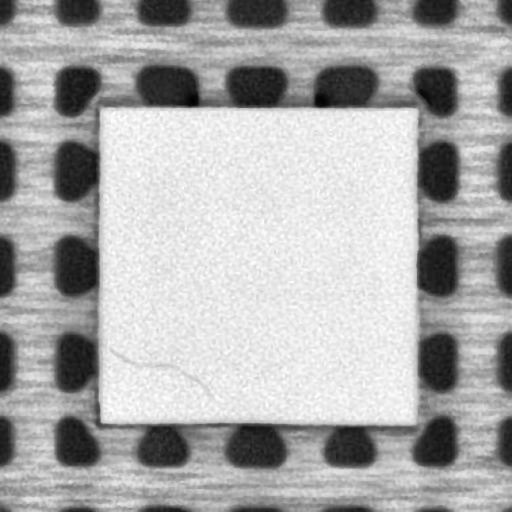DIE_CRACK: (108, 346, 217, 397)
